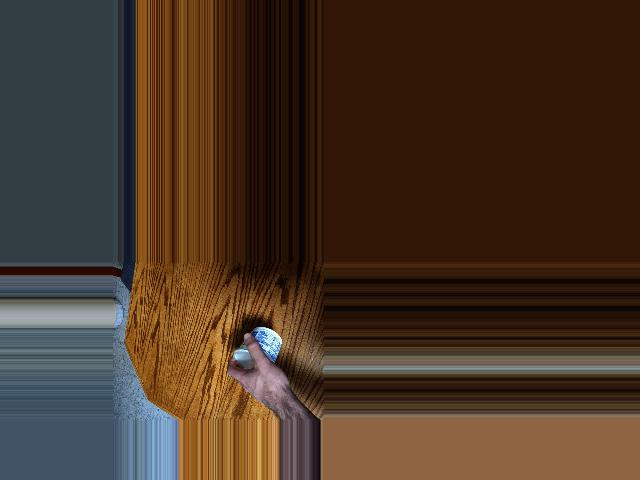cotage: (233, 329, 282, 374)
